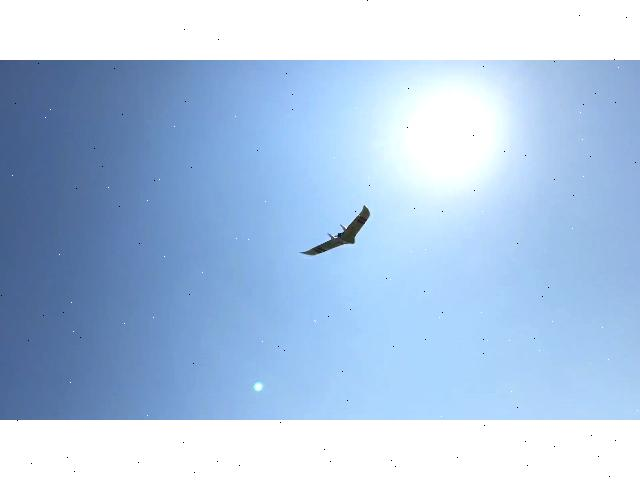Anti-Drone: (280, 186, 388, 270)
